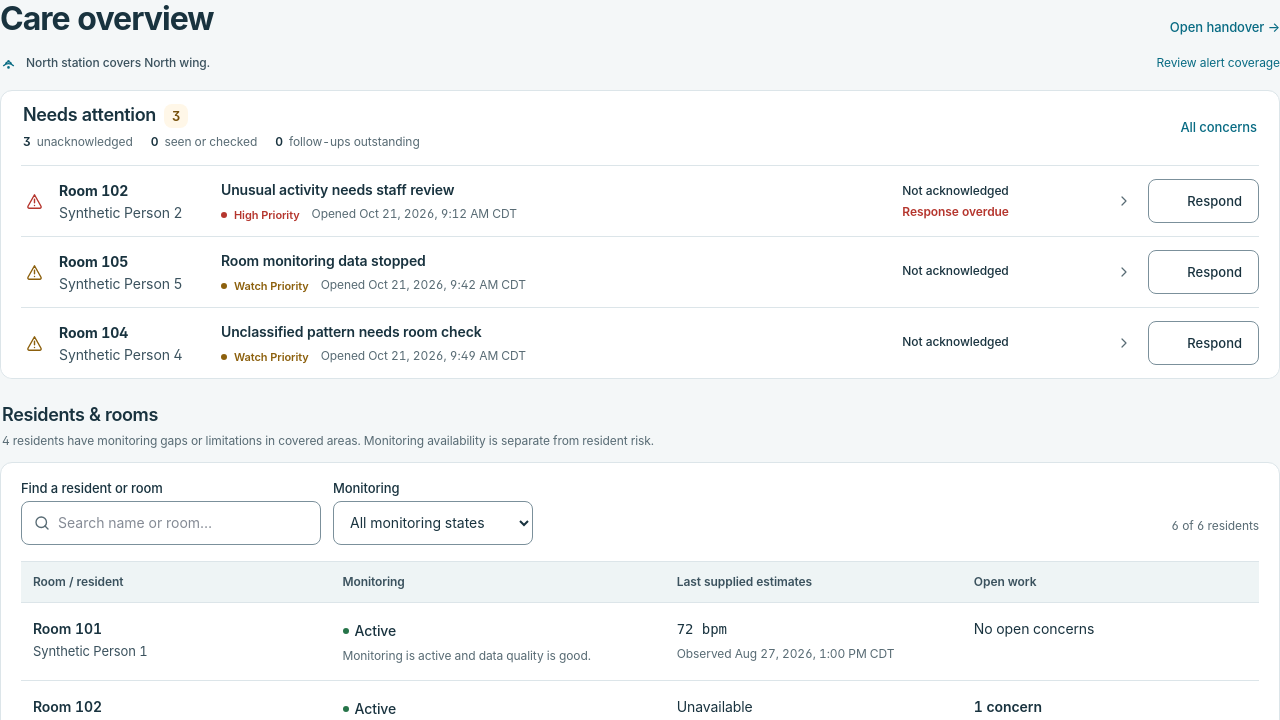
Test: care workspace › opens the correct queue response popup without navigating or recording an action
The width and height of the screenshot is (1280, 720).
Click the button with aria-label "Respond to Room 102" at (1204, 201), box [1148,179,1259,223]
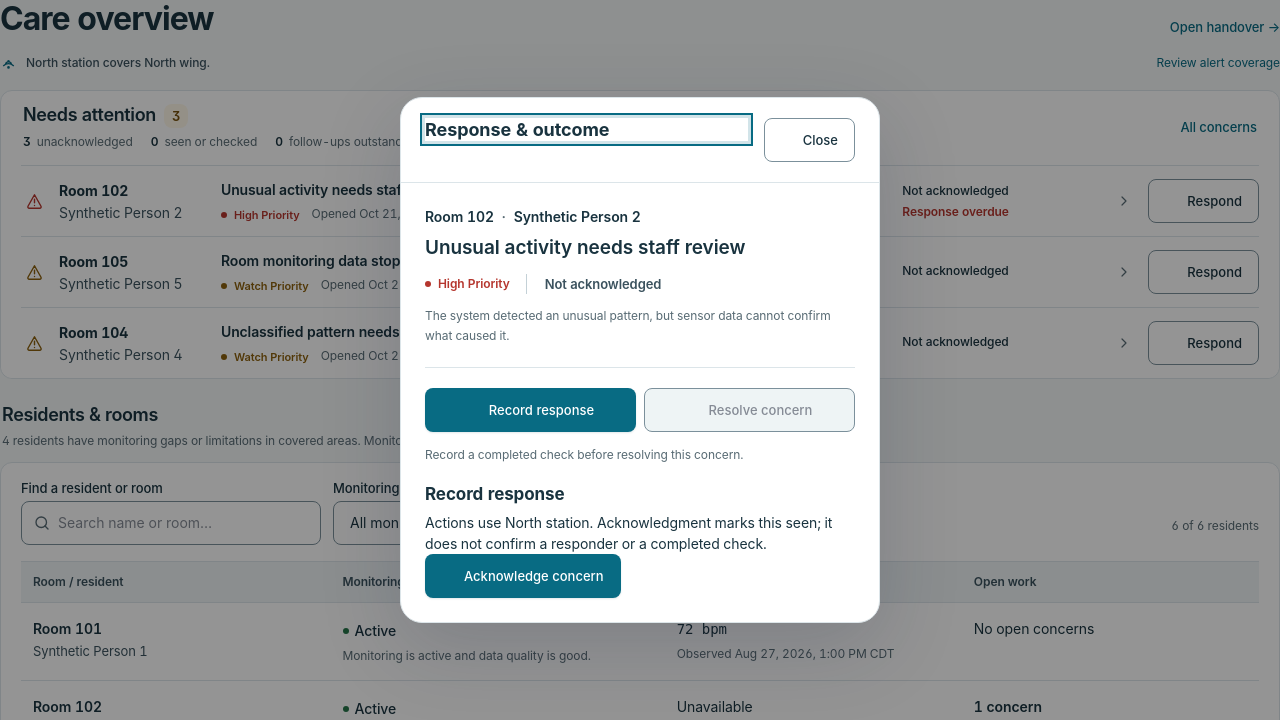
Expected: the heading "Unusual activity needs staff review" is shown, [425,236,745,259]
Expected: the button "Acknowledge concern" is shown, [425,554,621,598]
Click the button with aria-label "Close response" at (809, 140), box [764,118,855,162]
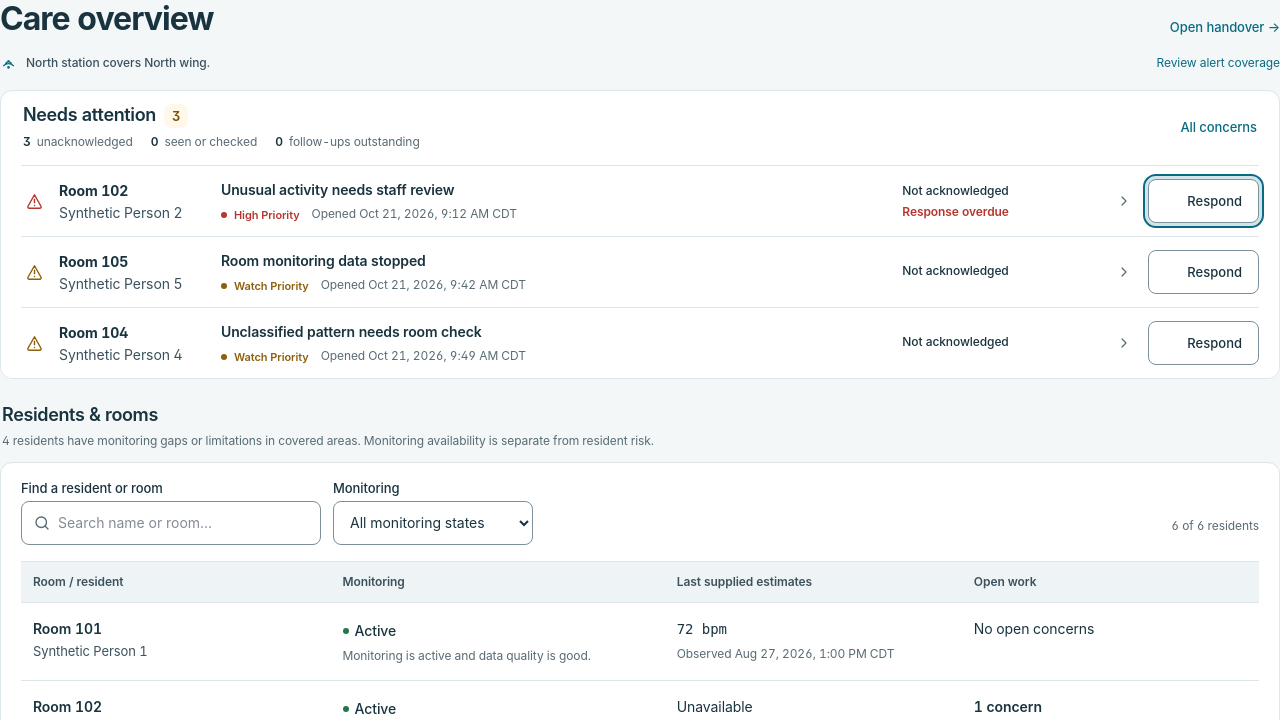
Expected: the dialog is gone
